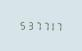five: (17, 19, 23, 30)
one: (46, 20, 52, 31)
seven: (39, 19, 45, 31), (32, 19, 38, 30), (53, 20, 59, 31)
three: (24, 19, 30, 30)
